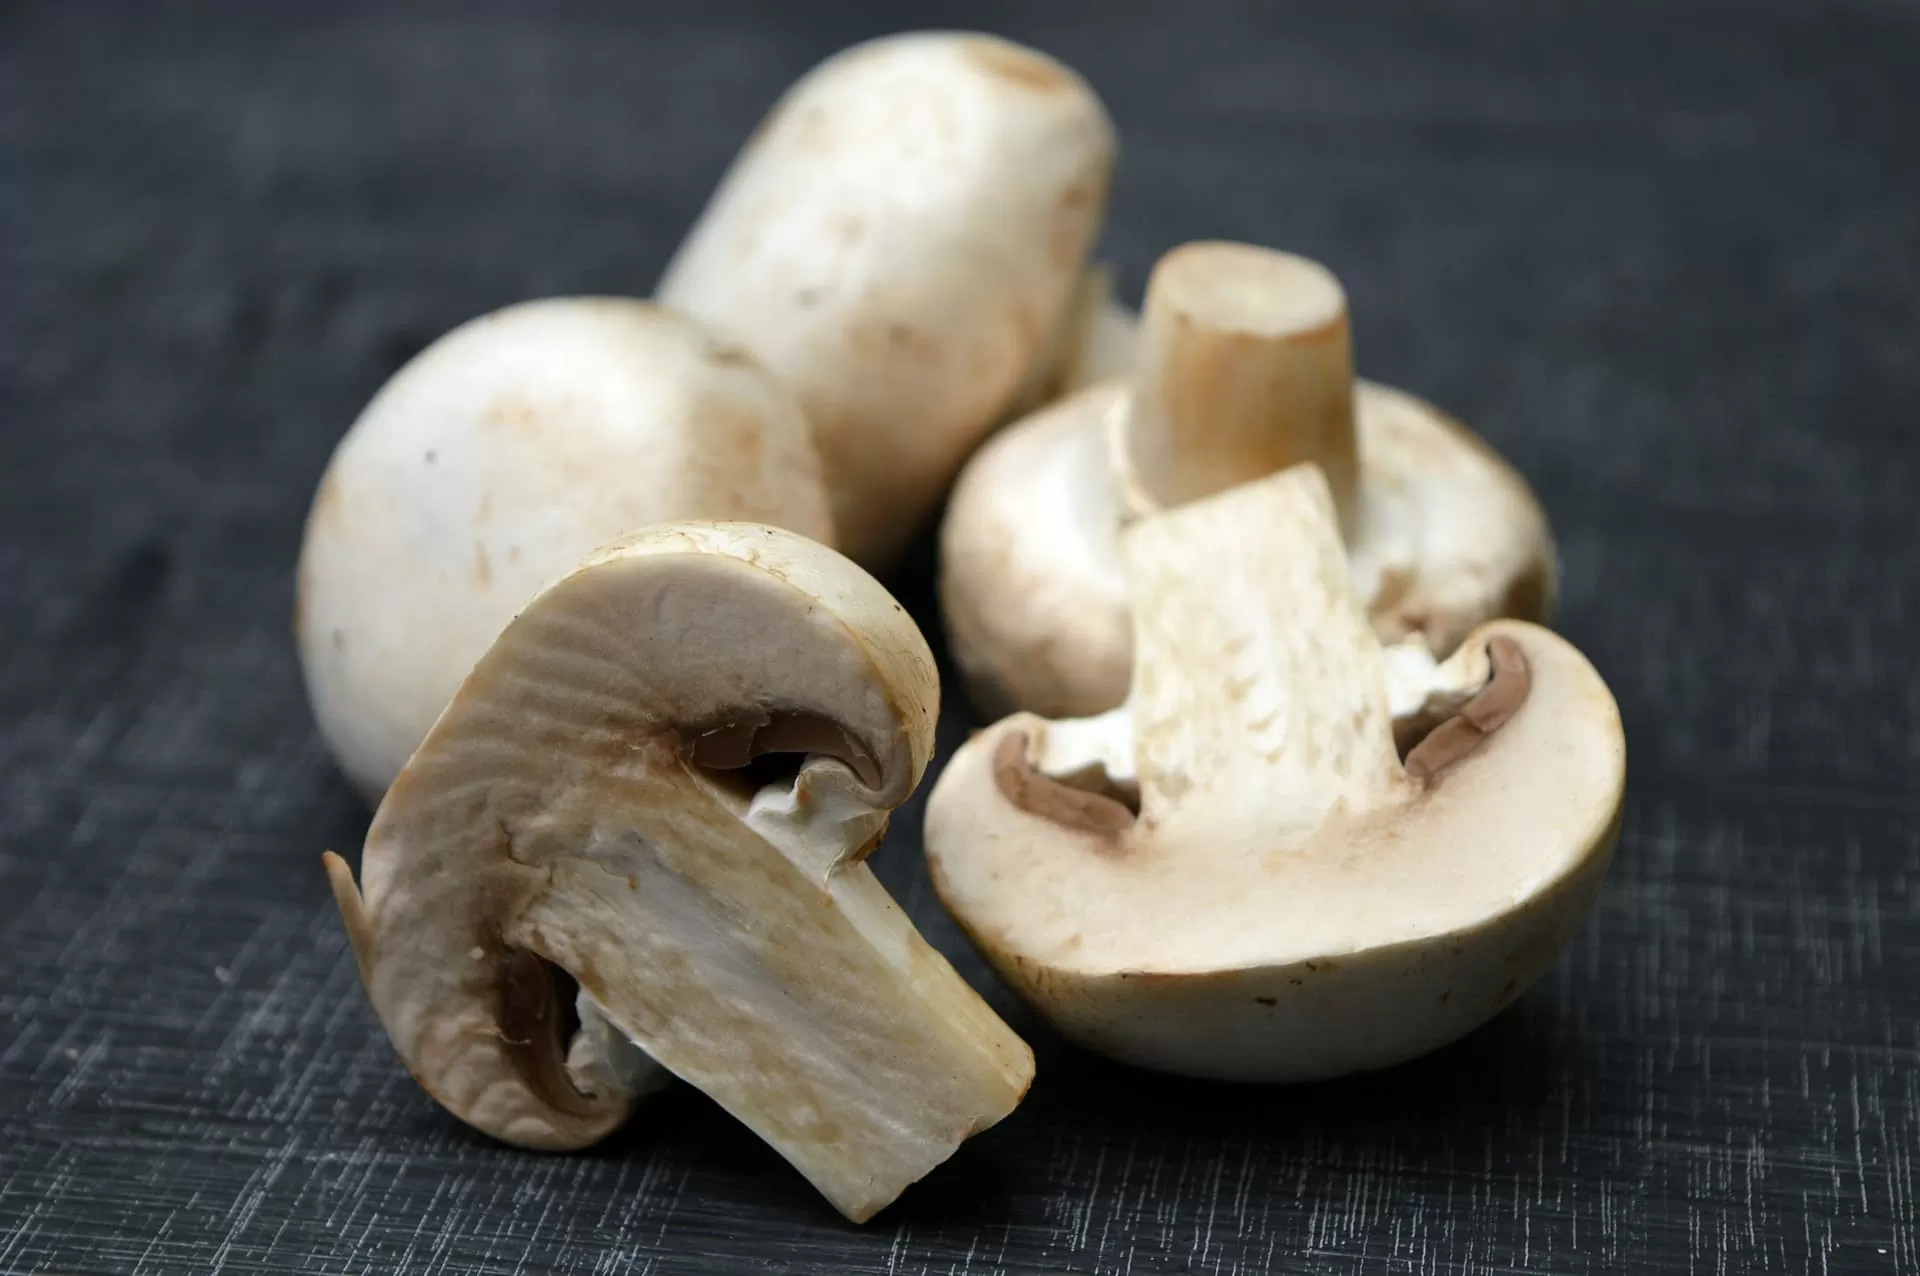mushroom: (272, 13, 1688, 1270)
